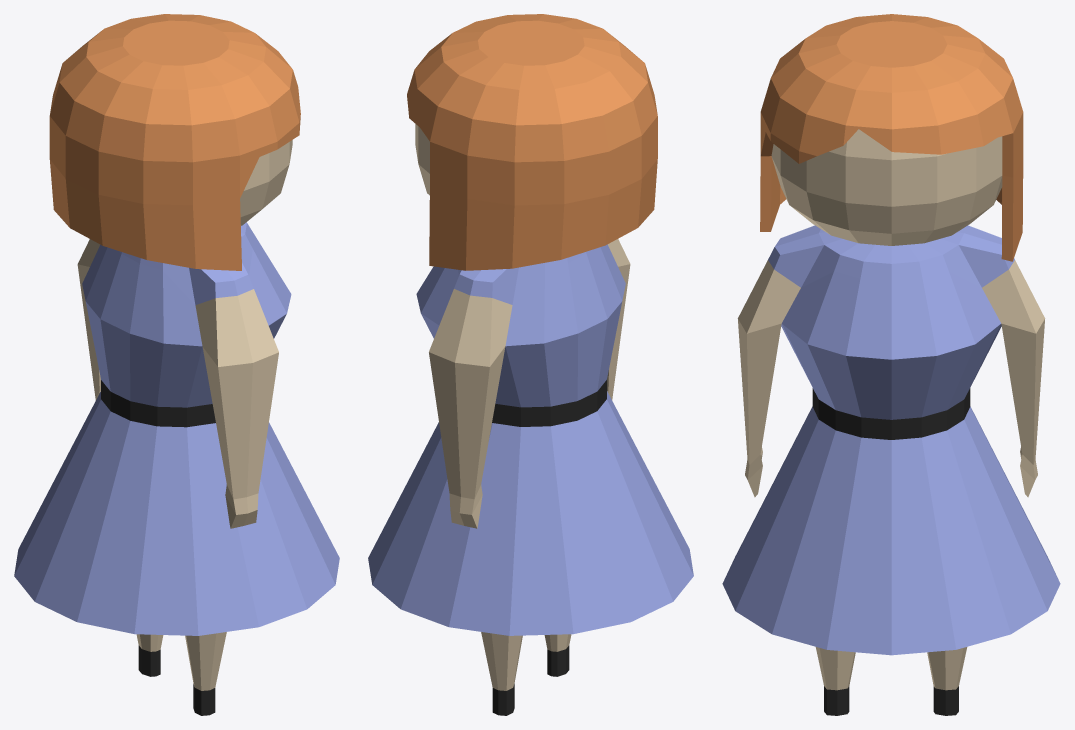
File: Client_woman.fbx
The picture shows the model from 3 angles, left to right: view 1: azimuth 30°, elevation 25°; view 2: azimuth 150°, elevation 25°; view 3: azimuth 270°, elevation 25°; orthographic projection. The views are drawn at different scales.
Parts seen in each view (by area): view 1: Client_girl; view 2: Client_girl; view 3: Client_girl.
Boxes of the visible parts, x1,y1,x2,y2 form: Client_girl: (14,14,339,715); Client_girl: (368,14,693,715); Client_girl: (722,14,1060,715).
Size of the model in its own units: 102 by 102 by 221.
